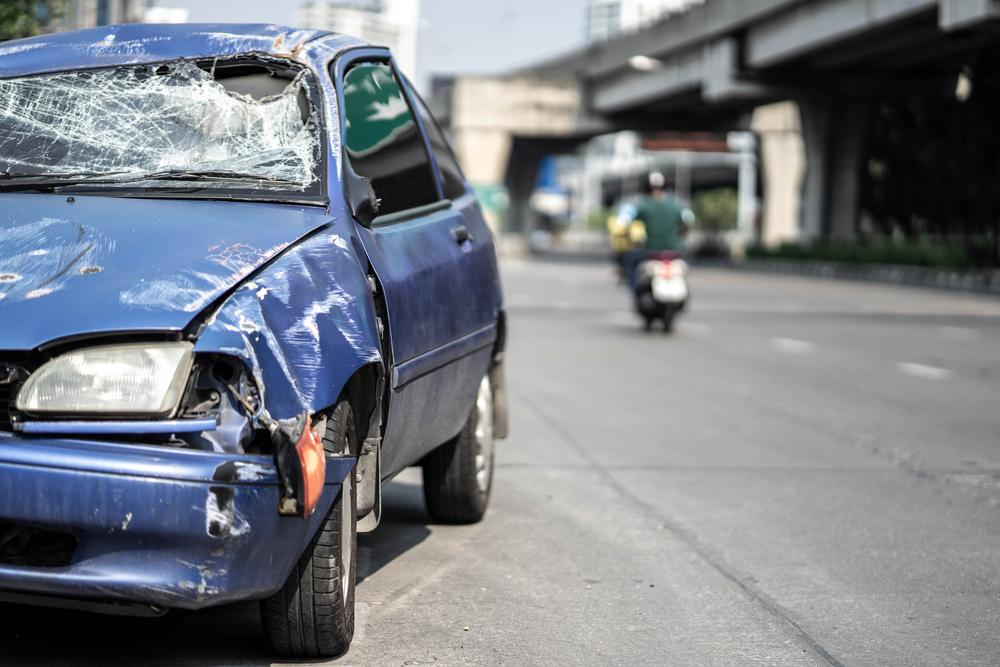glass shatter: (0, 52, 326, 195)
scratch: (0, 23, 363, 172), (208, 230, 380, 420), (118, 233, 296, 316), (0, 211, 119, 318), (188, 460, 273, 604)
